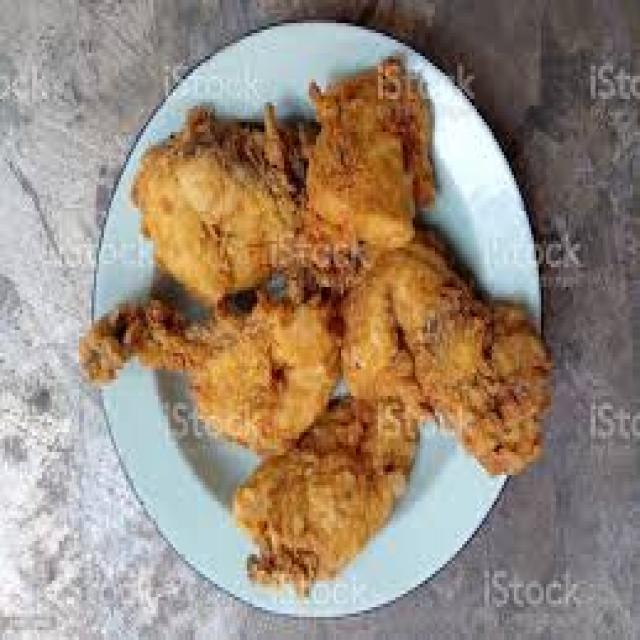Frango: (325, 246, 556, 482), (224, 399, 443, 592), (142, 114, 318, 299)
